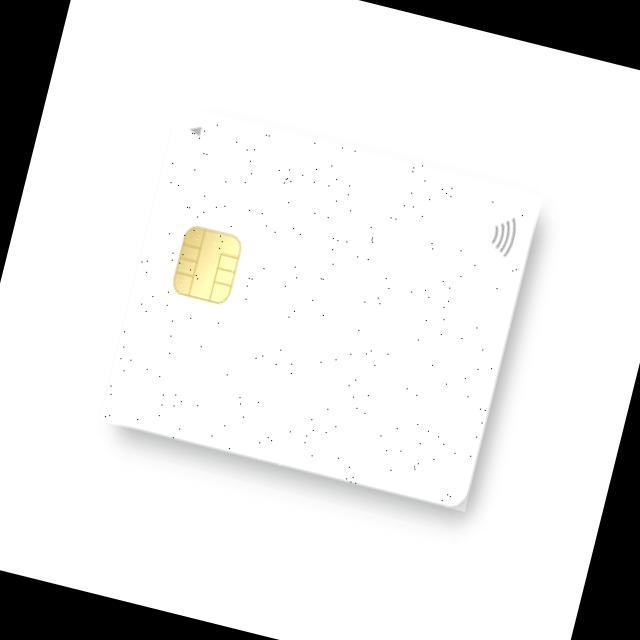payment_card: (101, 114, 542, 512)
